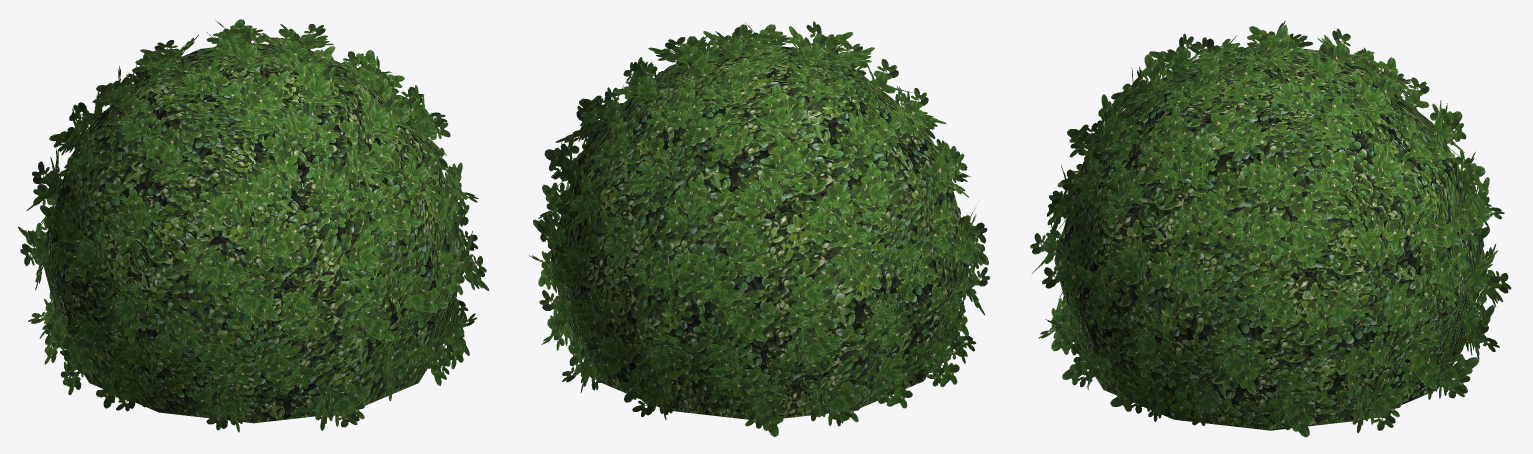
The model's file is hedge_shape_C.FBX.
3 views of the same model, side by side, from view 1: azimuth 30°, elevation 25°; view 2: azimuth 150°, elevation 25°; view 3: azimuth 270°, elevation 25° (orthographic). The views are drawn at different scales.
Visible parts, largest first — view 1: hedge_shape_C; view 2: hedge_shape_C; view 3: hedge_shape_C.
Part boxes in pixels (bbox=[...]): hedge_shape_C: bbox=[18, 19, 489, 432]; hedge_shape_C: bbox=[529, 21, 990, 436]; hedge_shape_C: bbox=[1030, 20, 1511, 437].
Bounding box in the file's own units: 111 × 85.14 × 114.
